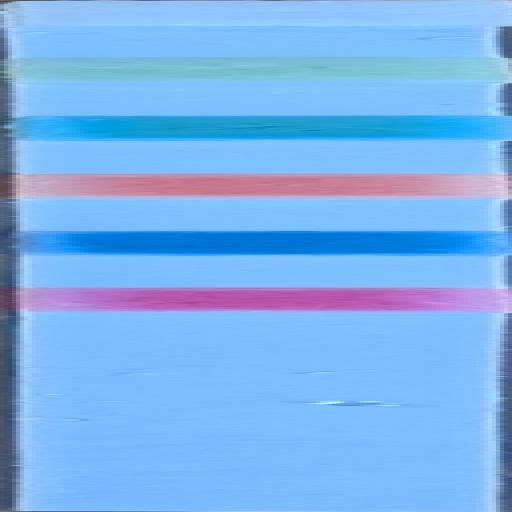pads: (0, 111, 512, 145), (0, 169, 512, 200), (0, 56, 510, 86), (0, 0, 512, 28), (0, 285, 512, 313), (0, 229, 512, 256)
